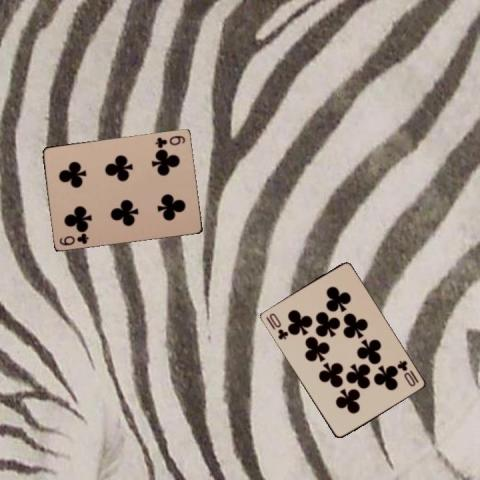10c: (263, 310, 289, 341), (394, 357, 420, 388)
6c: (153, 132, 186, 149), (57, 230, 90, 247)
